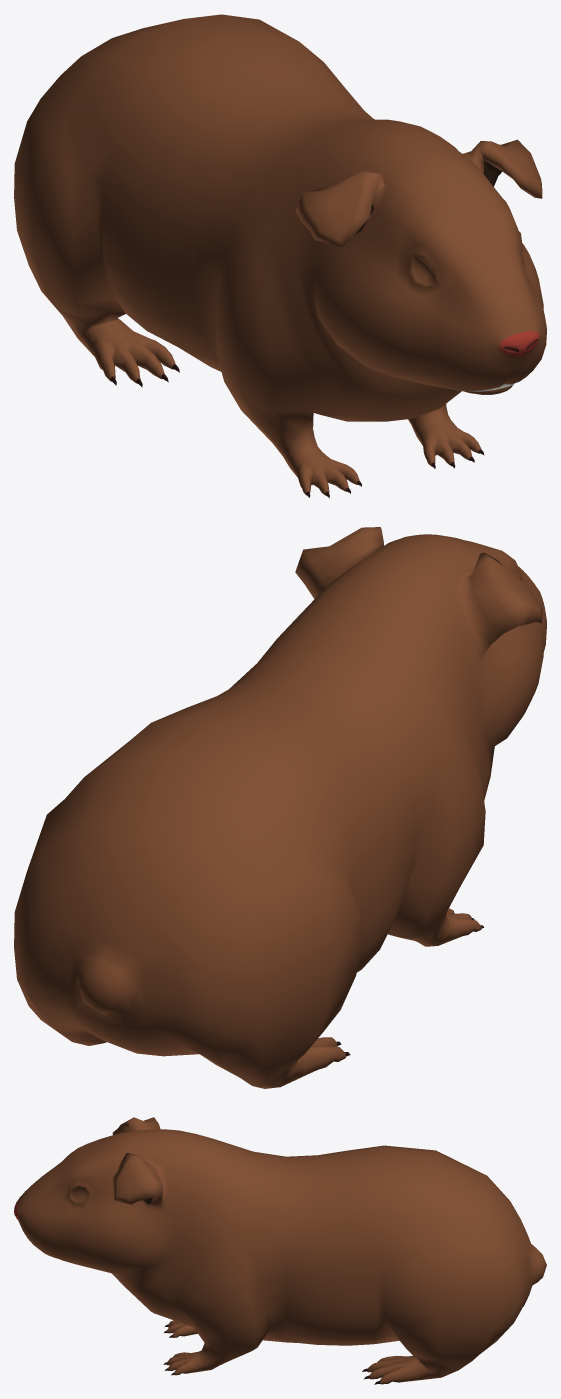
The model's file is guinea_pig_guinea_pig_triangulated.obj.
The picture shows the model from 3 angles, top to bottom: view 1: azimuth 30°, elevation 25°; view 2: azimuth 150°, elevation 25°; view 3: azimuth 270°, elevation 25°; orthographic projection. The views are drawn at different scales.
Size of the model in its own units: 0.104 by 0.1145 by 0.2559.
